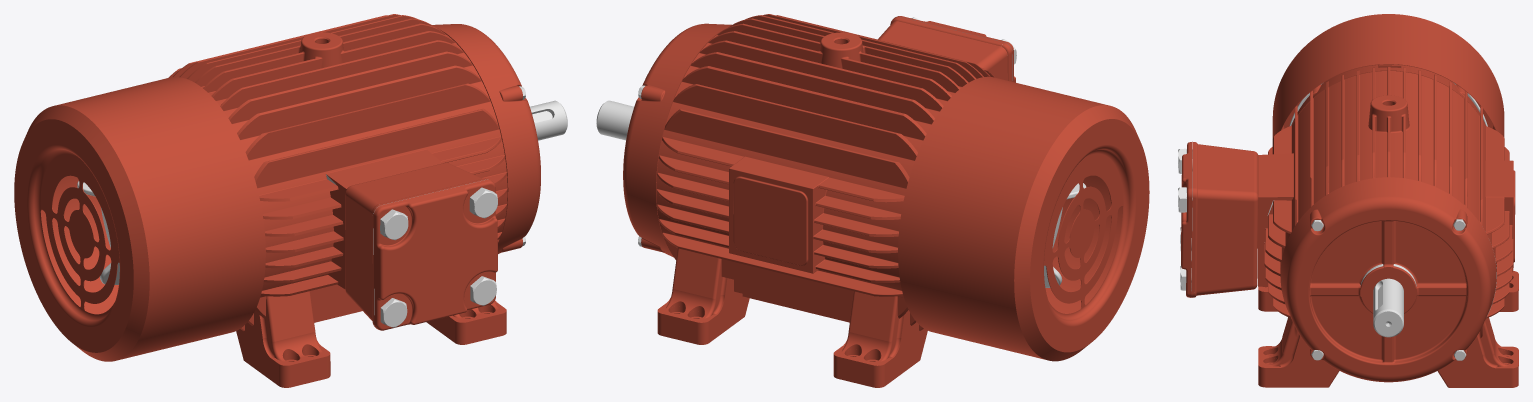
File: motor.fbx
3 renders of one model, left to right at view 1: azimuth 30°, elevation 25°; view 2: azimuth 150°, elevation 25°; view 3: azimuth 270°, elevation 25°, orthographic. The views are drawn at different scales.
Parts seen in each view (by area): view 1: Solid1.001, Solid1:7.001, Solid4.001, Solid1:5.001, Solid2.001, Solid1:2.001, Bolt.014, Bolt.015, Bolt.012, Bolt.013; view 2: Solid1.001, Solid1:7.001, Solid1:5.001, Solid2.001, Solid1:2.001; view 3: Solid1.001, Solid1:5.001, Solid1:7.001, Solid2.001, Solid1:2.001, Solid4.001, Solid1:6.001.
Boxes of the visible parts, <box> form: Solid1.001: <box>168,14,507,387</box>; Solid1:7.001: <box>14,77,265,361</box>; Solid4.001: <box>373,179,497,330</box>; Solid1:5.001: <box>432,24,540,253</box>; Solid2.001: <box>345,163,489,326</box>; Solid1:2.001: <box>530,100,567,140</box>; Bolt.014: <box>469,187,497,218</box>; Bolt.015: <box>380,209,408,240</box>; Bolt.012: <box>380,298,407,327</box>; Bolt.013: <box>470,276,496,305</box>; Solid1.001: <box>656,14,994,387</box>; Solid1:7.001: <box>898,76,1149,361</box>; Solid1:5.001: <box>623,23,731,257</box>; Solid2.001: <box>878,16,1012,81</box>; Solid1:2.001: <box>596,100,633,140</box>; Solid1.001: <box>1258,66,1518,387</box>; Solid1:5.001: <box>1280,177,1496,382</box>; Solid1:7.001: <box>1272,14,1504,138</box>; Solid2.001: <box>1191,142,1258,297</box>; Solid1:2.001: <box>1373,278,1403,337</box>; Solid4.001: <box>1181,142,1192,297</box>; Solid1:6.001: <box>1291,64,1485,125</box>.
Size of the model in its own units: 0.8841 by 0.4653 by 0.608.
